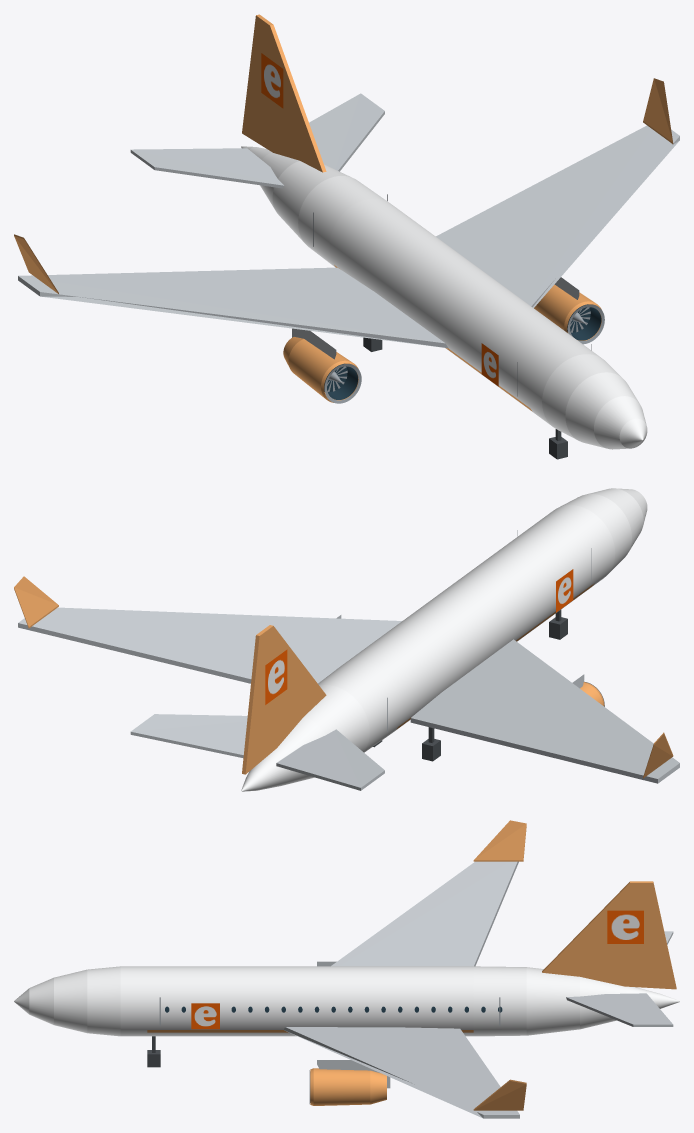
The model's file is a320-EZY-v3.gltf.
3 renders of one model, top to bottom at view 1: azimuth 30°, elevation 25°; view 2: azimuth 150°, elevation 25°; view 3: azimuth 270°, elevation 25°, orthographic. The views are drawn at different scales.
Visible parts, largest first — view 1: object 1, Gear; view 2: object 1, Gear; view 3: object 1.
Boxes of the visible parts, x1,y1,x2,y2 form: object 1: (14, 14, 679, 449); Gear: (363, 337, 567, 459); object 1: (14, 488, 679, 791); Gear: (373, 610, 567, 761); object 1: (14, 820, 679, 1118).
Size of the model in its own units: 35 by 11.51 by 38.
8 materials, 1 textured.
